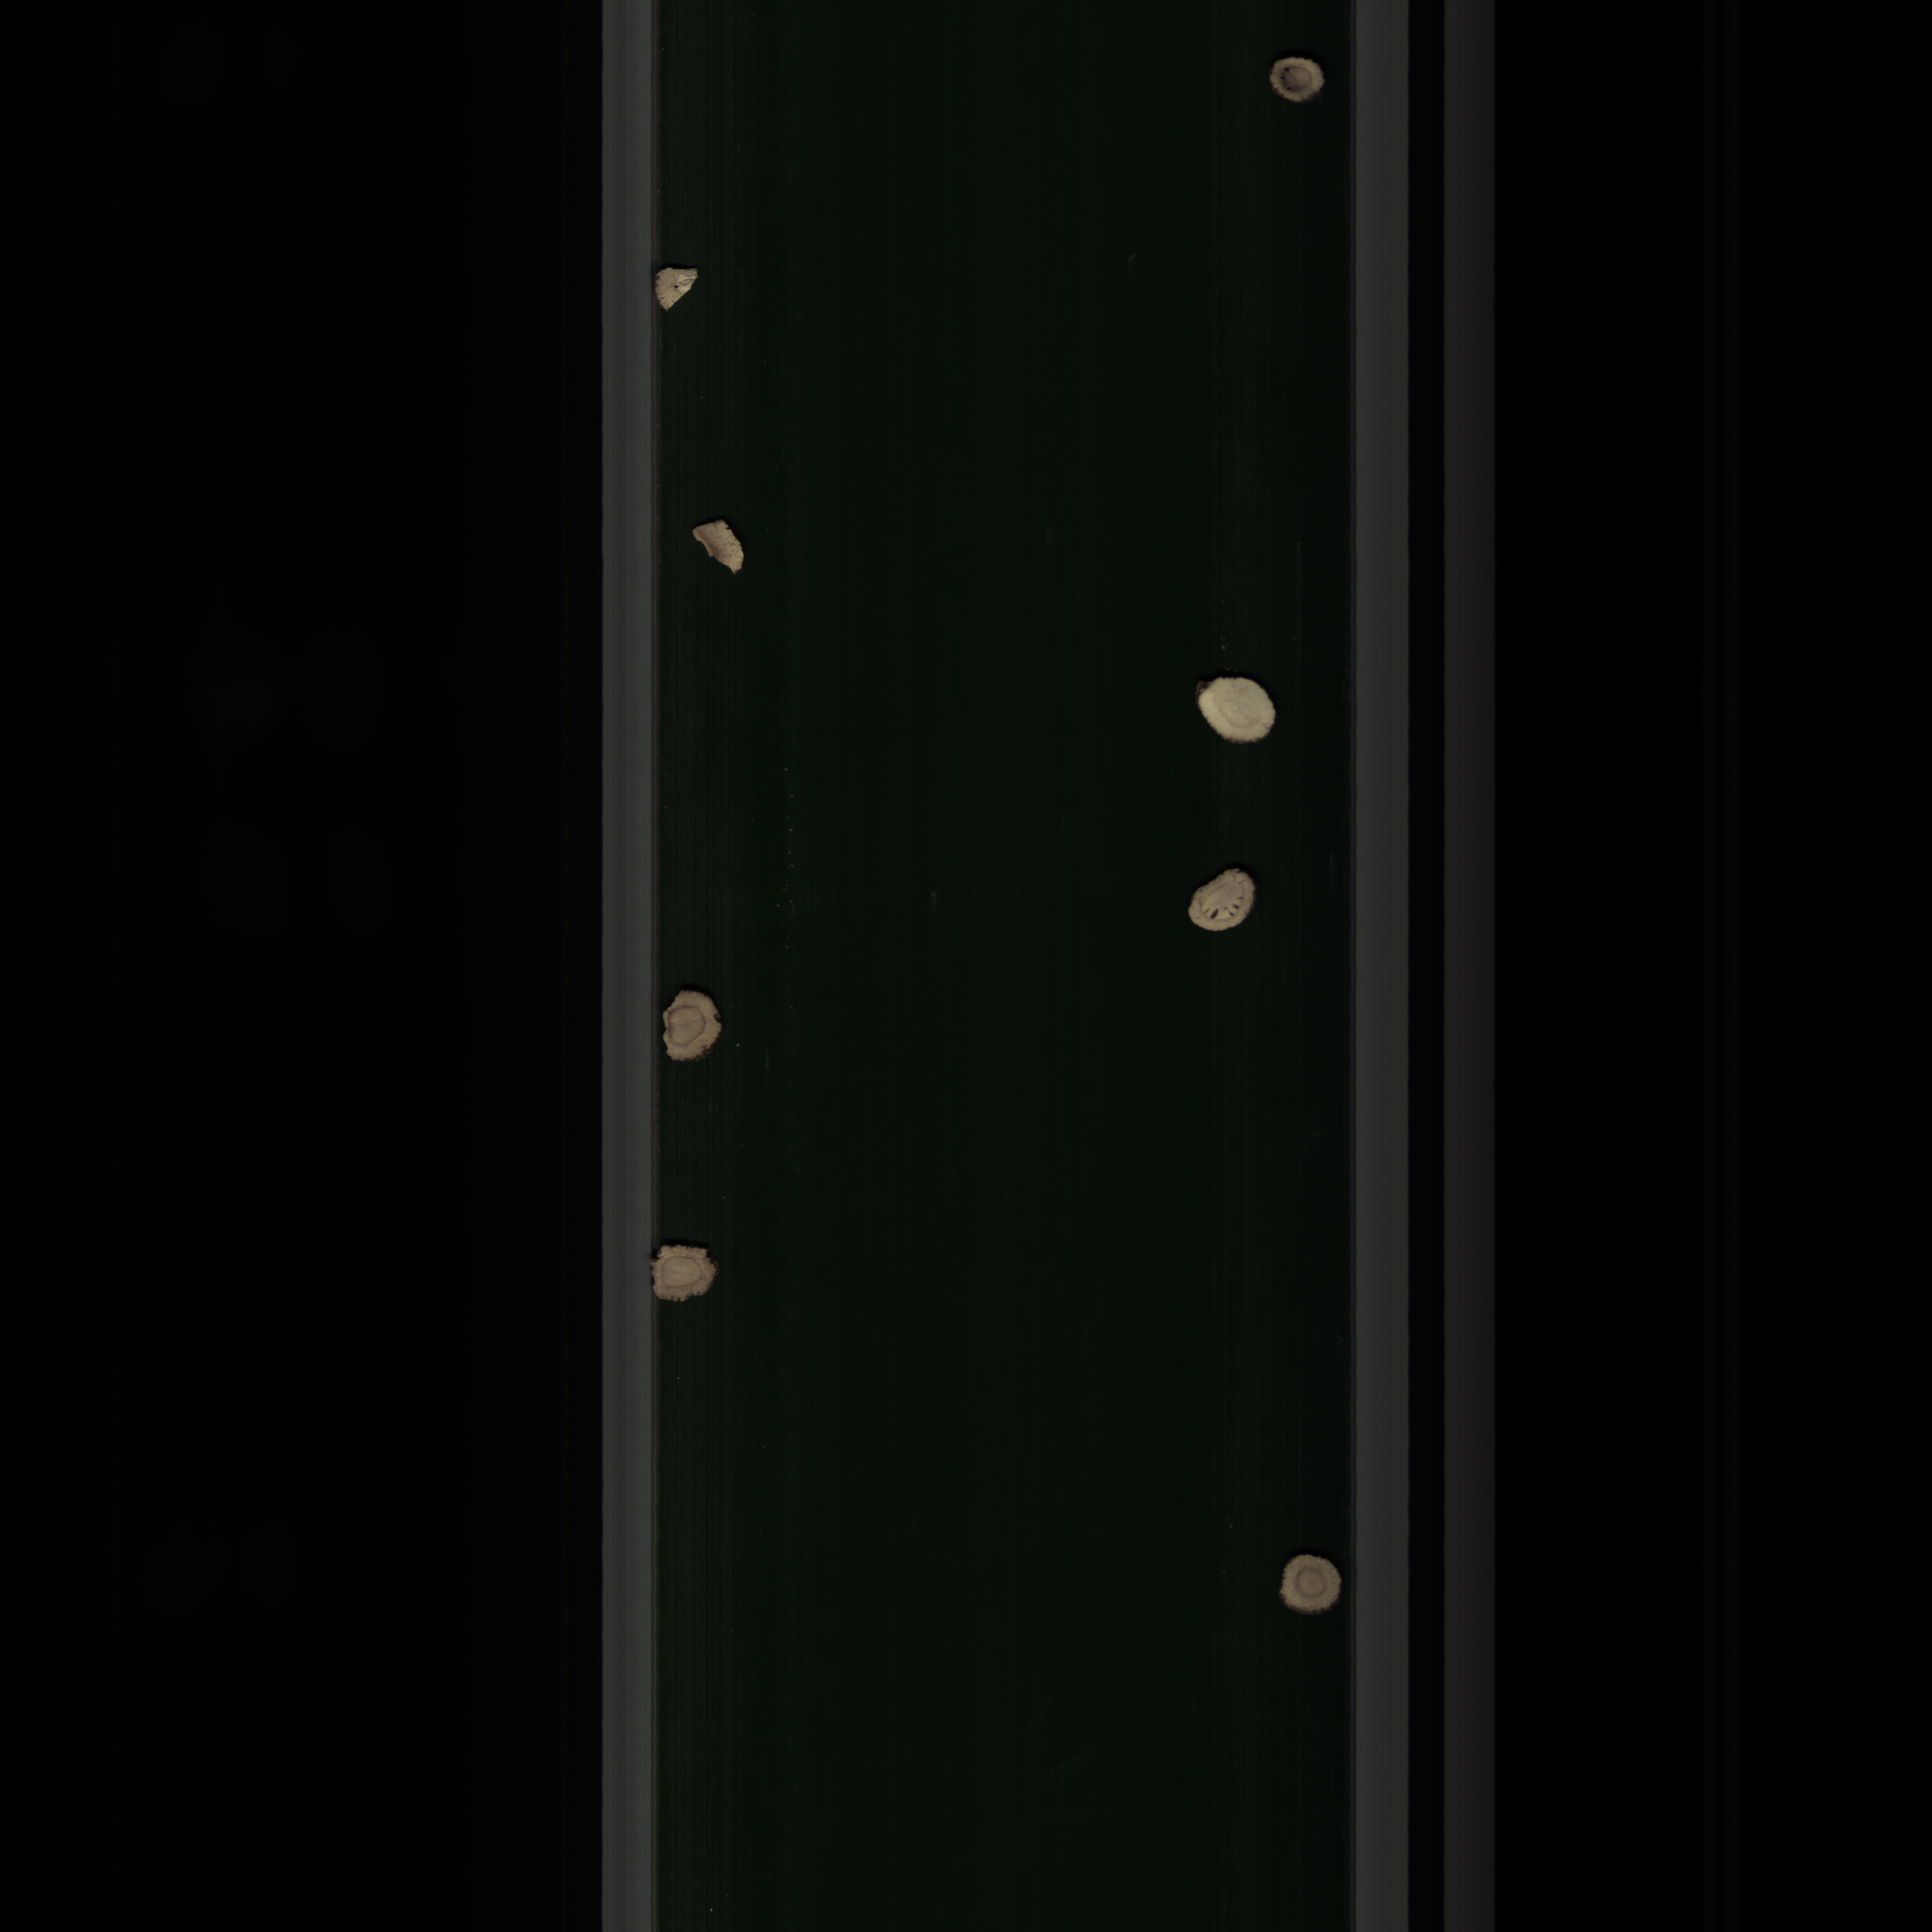debris: (1169, 856, 1277, 943), (690, 513, 755, 584), (651, 262, 709, 317)
distortion: (640, 1240, 727, 1313)
moldy: (658, 982, 729, 1067), (1265, 46, 1334, 111)
